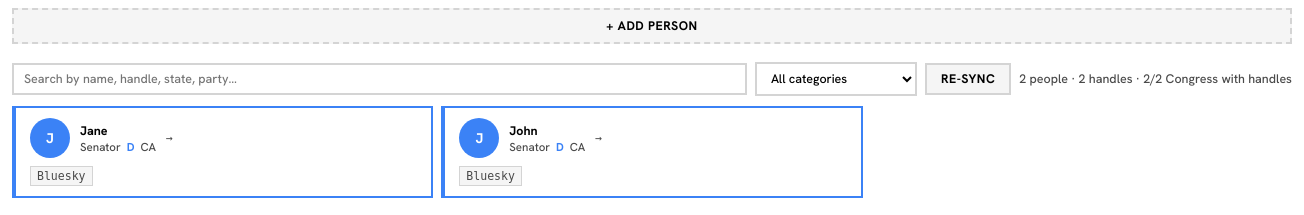
PeopleTab — search + filter › filters by handle text
Expected: the text "Jane" is shown, [80, 122, 108, 138]
Type "john.bsky" into the field with placeholder "Search by name, handle, state, party…". click: [379, 79]
box: [12, 63, 747, 95]
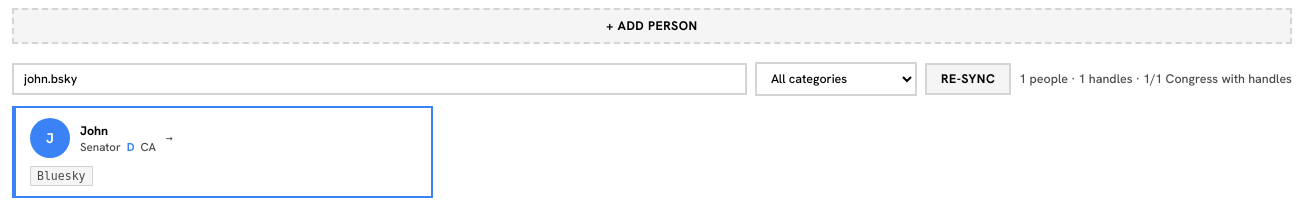
Expected: the button "Jane" is gone
